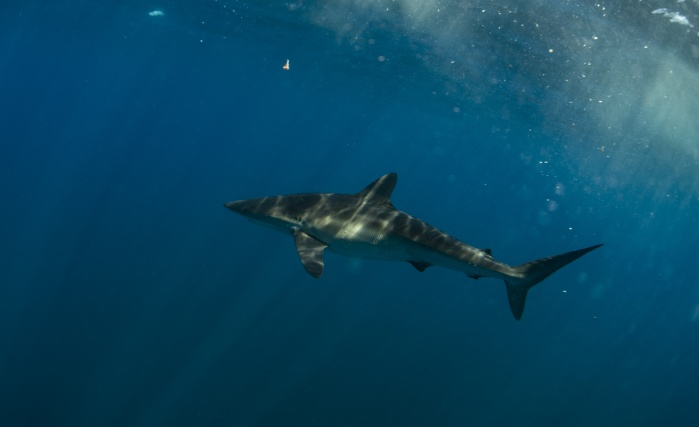Sedoso: (173, 170, 610, 335)
